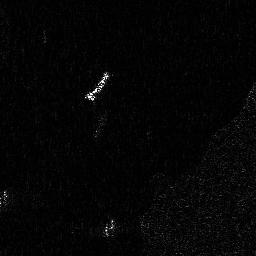ship: (84, 70, 111, 101)
